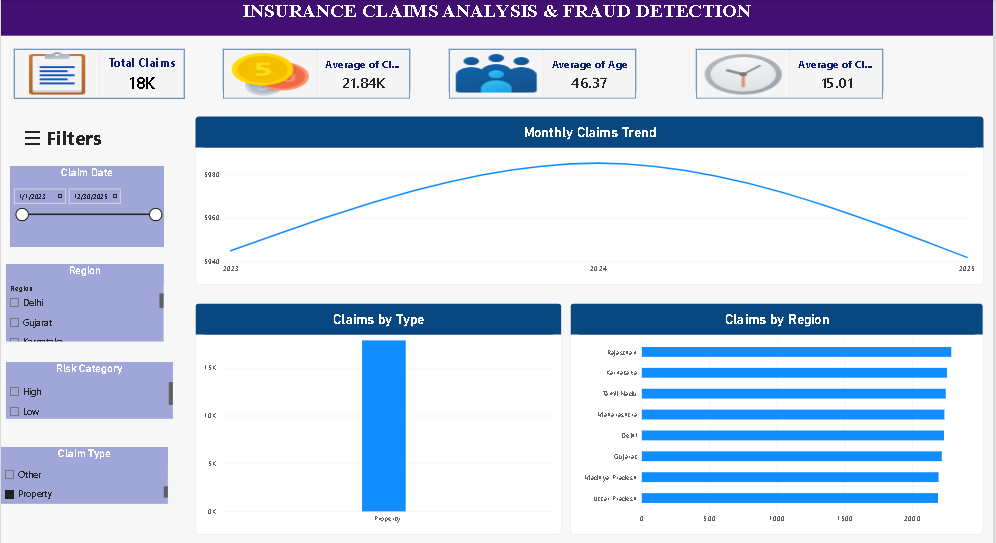

The dashboard page shown, as its layout file describes it:
{"tool":"powerbi","page":{"name":"Insurance Claims Overview","canvas":[1920,1080],"ordinal":0},"visuals":[{"type":"textbox","box":[0,0,1920,70.6],"z":0},{"type":"lineChart","title":"Monthly Claims Trend","fields":{"Category":["insurance_claims_cleaned.Claim_Date.Variation.Date Hierarchy.Year","insurance_claims_cleaned.Claim_Date.Variation.Date Hierarchy.Quarter","insurance_claims_cleaned.Claim_Date.Variation.Date Hierarchy.Month","insurance_claims_cleaned.Claim_Date.Variation.Date Hierarchy.Day"],"Y":["insurance_claims_cleaned.Total Claims"]},"box":[375.5,226.5,1527.1,327.1],"z":1000},{"type":"clusteredColumnChart","title":"Claims by Type","fields":{"Category":["insurance_claims_cleaned.Claim_Type"],"Y":["insurance_claims_cleaned.Total Claims"]},"box":[376,588,710,448.3],"z":2000},{"type":"clusteredBarChart","title":"Claims by Region","fields":{"Category":["insurance_claims_cleaned.Region"],"Y":["insurance_claims_cleaned.Total Claims"]},"box":[1102,588,800,448.3],"z":3000},{"type":"slicer","title":"Claim Date","fields":{"Values":["insurance_claims_cleaned.Claim_Date"]},"box":[17.4,323.2,298.1,154.8],"z":4000},{"type":"slicer","title":"Region","fields":{"Values":["insurance_claims_cleaned.Region"]},"box":[9.7,512.9,305,150],"z":6000},{"type":"slicer","title":"Risk Category","fields":{"Values":["insurance_claims_cleaned.Risk_Category"]},"box":[9.7,702.6,323.3,110],"z":7000},{"type":"cardVisual","title":"Total C","fields":{"Data":["insurance_claims_cleaned.Total Claims"]},"box":[26,96,330,96],"z":8000},{"type":"cardVisual","fields":{"Data":["Avg(insurance_claims_cleaned.Claim_Amount)"]},"box":[430,96,362,96],"z":9000},{"type":"cardVisual","fields":{"Data":["Avg(insurance_claims_cleaned.Age)"]},"box":[868,96,362,96],"z":10000},{"type":"cardVisual","fields":{"Data":["Avg(insurance_claims_cleaned.Claim_Delay_Days)"]},"box":[1346,96,362,96],"z":12000},{"type":"textbox","box":[45.4,241.5,212.6,74.3],"z":13000},{"type":"slicer","title":"Claim Type","fields":{"Values":["insurance_claims_cleaned.Claim_Type"]},"box":[0,867.1,323.3,110],"z":13001}]}

Visuals, with their boxes on the page's 1920x1080 design canvas (x1, y1, x2, y2). These are canvas units, not pixel positions in the 996x543 screenshot, which may show the page scaled, cropped or inside an application window:
textbox: BBox(0, 0, 1920, 71)
"Monthly Claims Trend" lineChart: BBox(376, 226, 1903, 554)
"Claims by Type" clusteredColumnChart: BBox(376, 588, 1086, 1036)
"Claims by Region" clusteredBarChart: BBox(1102, 588, 1902, 1036)
"Claim Date" slicer: BBox(17, 323, 316, 478)
"Region" slicer: BBox(10, 513, 315, 663)
"Risk Category" slicer: BBox(10, 703, 333, 813)
"Total C" cardVisual: BBox(26, 96, 356, 192)
cardVisual - Avg(insurance_claims_cleaned.Claim_Amount): BBox(430, 96, 792, 192)
cardVisual - Avg(insurance_claims_cleaned.Age): BBox(868, 96, 1230, 192)
cardVisual - Avg(insurance_claims_cleaned.Claim_Delay_Days): BBox(1346, 96, 1708, 192)
textbox: BBox(45, 242, 258, 316)
"Claim Type" slicer: BBox(0, 867, 323, 977)
